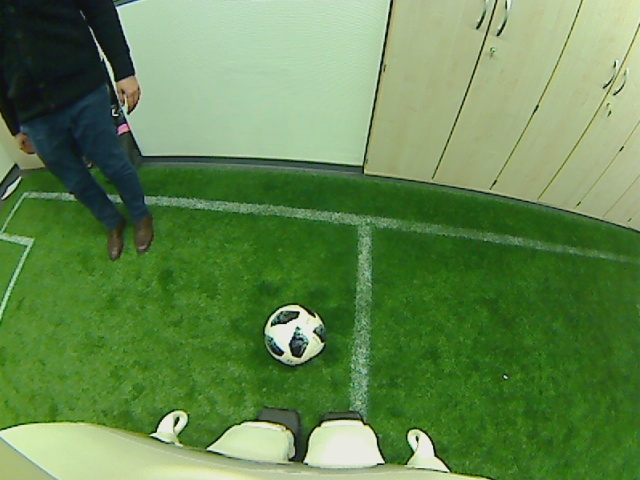ball: (261, 303, 328, 366)
